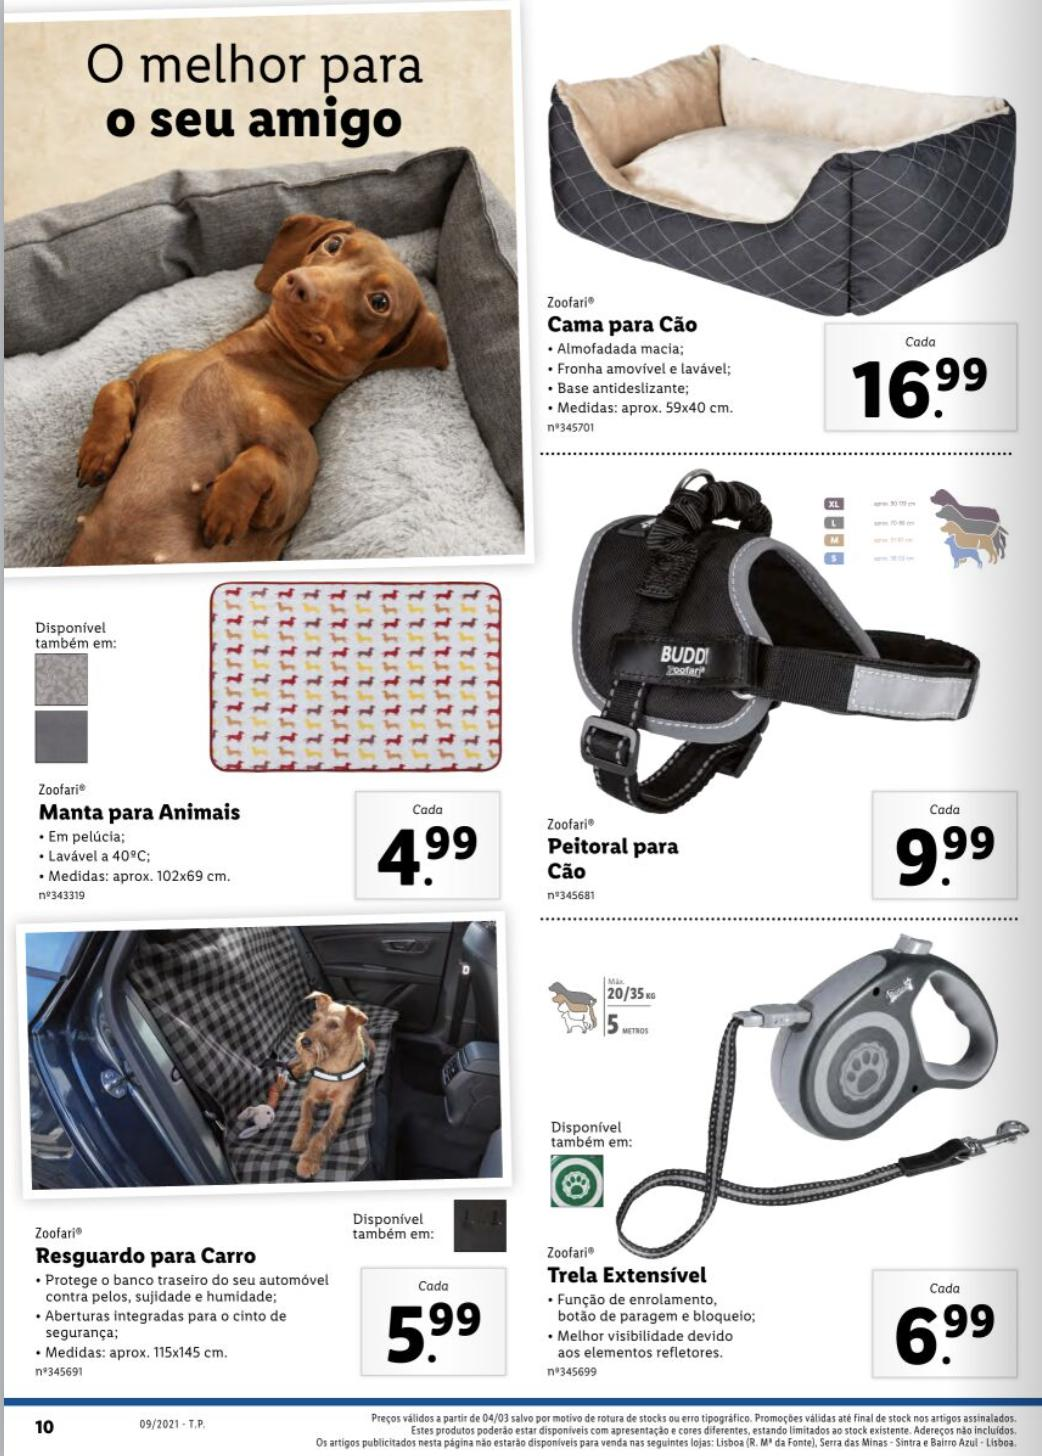name: (28, 1239, 262, 1271), (548, 831, 685, 883), (30, 798, 244, 827), (546, 312, 703, 342), (544, 1260, 710, 1287)
price: (837, 348, 988, 432), (377, 820, 482, 892), (886, 827, 1004, 891), (377, 1298, 482, 1369), (895, 1292, 994, 1365)
product: (10, 927, 521, 1383), (541, 930, 1031, 1387), (539, 462, 1031, 905), (535, 12, 1031, 449), (10, 572, 516, 911)
